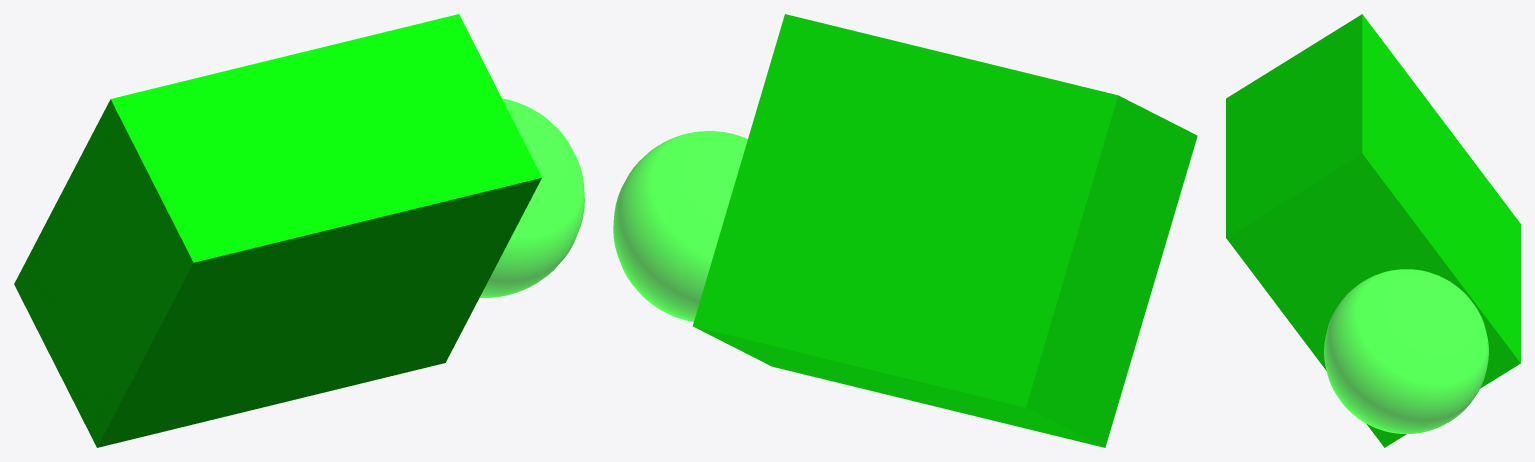
The picture shows the model from 3 angles, left to right: view 1: azimuth 30°, elevation 25°; view 2: azimuth 150°, elevation 25°; view 3: azimuth 270°, elevation 25°; orthographic projection. The views are drawn at different scales.
Size of the model in its own units: 2.8 by 1.97 by 1.79.
